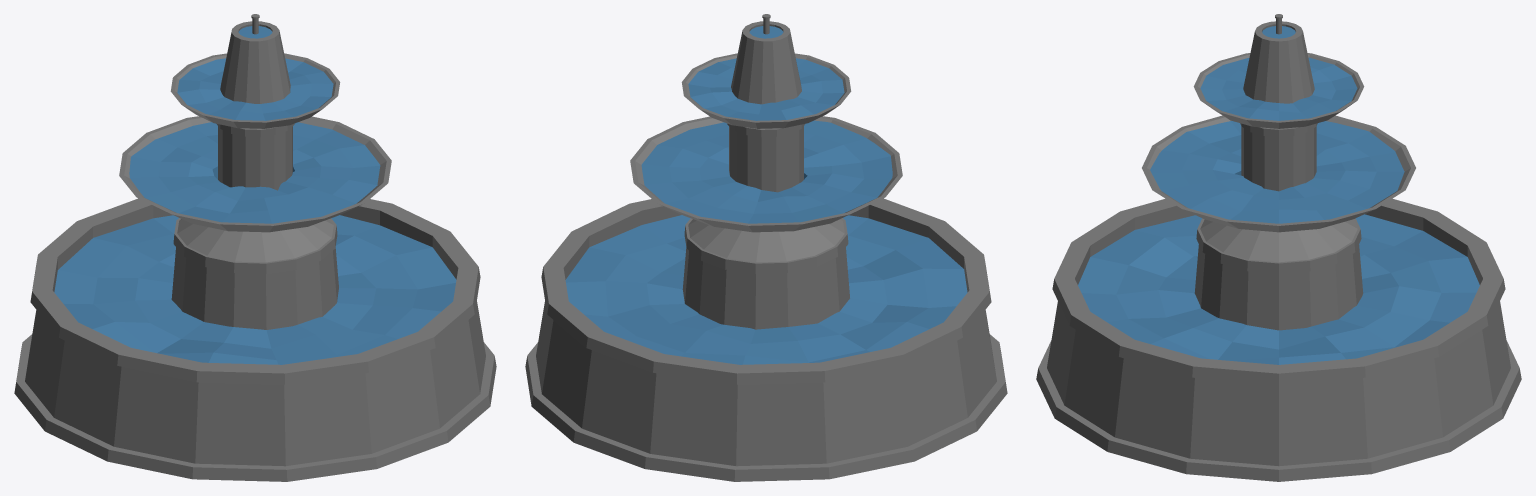
The model's file is Fountain.fbx.
3 views of the same model, side by side, from view 1: azimuth 30°, elevation 25°; view 2: azimuth 150°, elevation 25°; view 3: azimuth 270°, elevation 25° (orthographic).
Parts seen in each view (by area): view 1: Fountain; view 2: Fountain; view 3: Fountain.
Part boxes in pixels (box(x1,y1,x2,y2)): Fountain: box(14, 14, 496, 481); Fountain: box(525, 14, 1007, 481); Fountain: box(1036, 14, 1521, 481).
Bounding box in the file's own units: 477 × 477 × 394.
